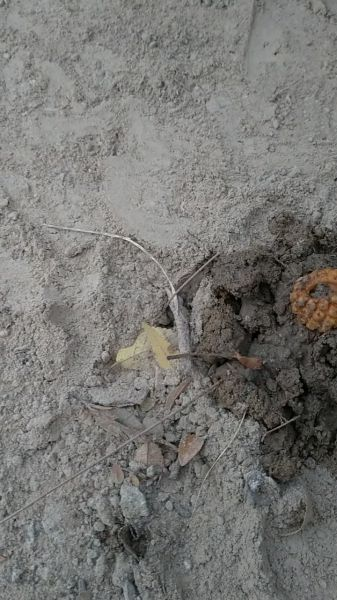eggs: (284, 266, 337, 335)
